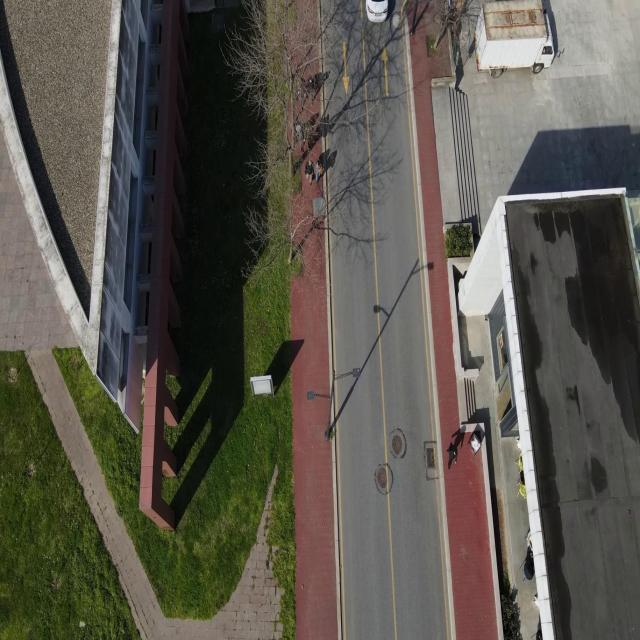p3rson: (446, 441, 458, 470), (303, 158, 315, 186), (294, 121, 303, 153), (298, 76, 306, 109), (307, 74, 315, 107), (304, 123, 314, 147), (315, 158, 322, 182)
